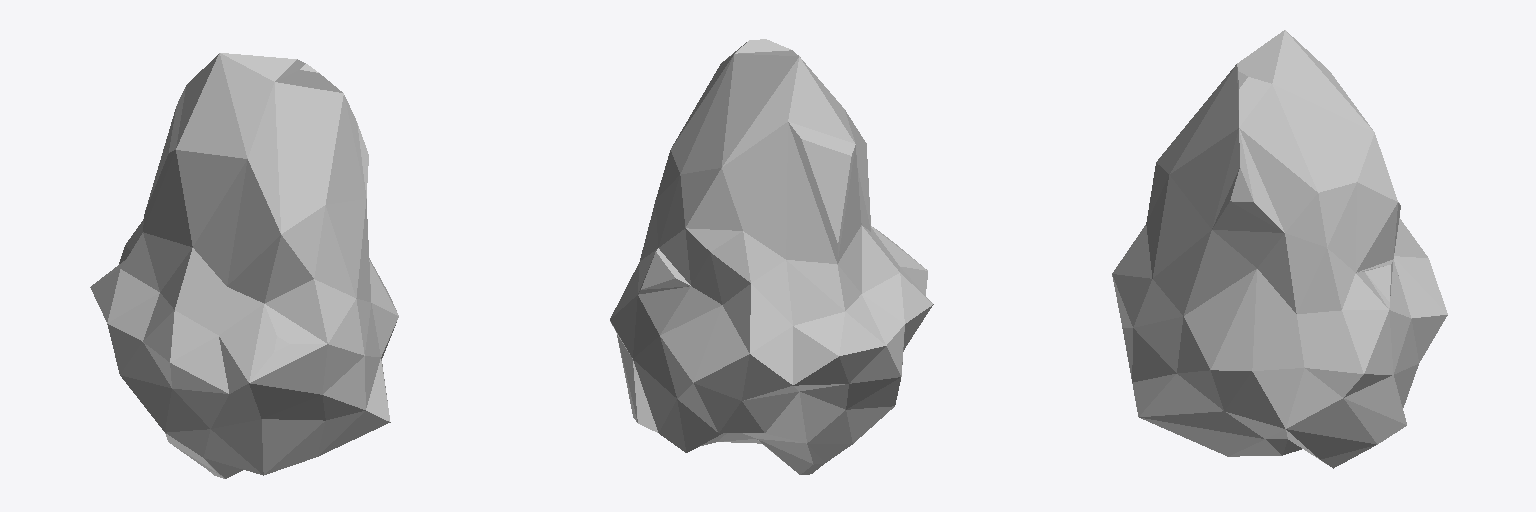
File: slow.obj
The picture shows the model from 3 angles: view 1: azimuth 30°, elevation 25°; view 2: azimuth 150°, elevation 25°; view 3: azimuth 270°, elevation 25°; orthographic projection.
Visible parts, largest first — view 1: CUPIC_ICEBERG; view 2: CUPIC_ICEBERG; view 3: CUPIC_ICEBERG.
Part boxes in pixels (left/top/right/bottom): CUPIC_ICEBERG: left=90, top=53, right=398, bottom=478; CUPIC_ICEBERG: left=610, top=39, right=933, bottom=474; CUPIC_ICEBERG: left=1112, top=30, right=1447, bottom=468.
Size of the model in its own units: 43.74 by 65 by 47.19.